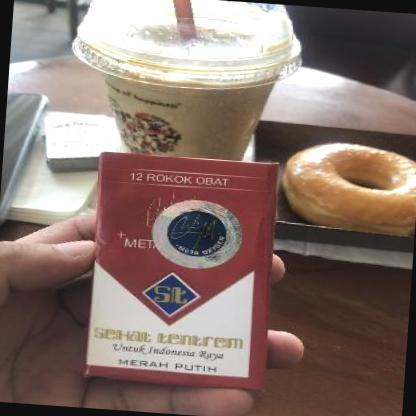objects: (84, 152, 280, 392)
